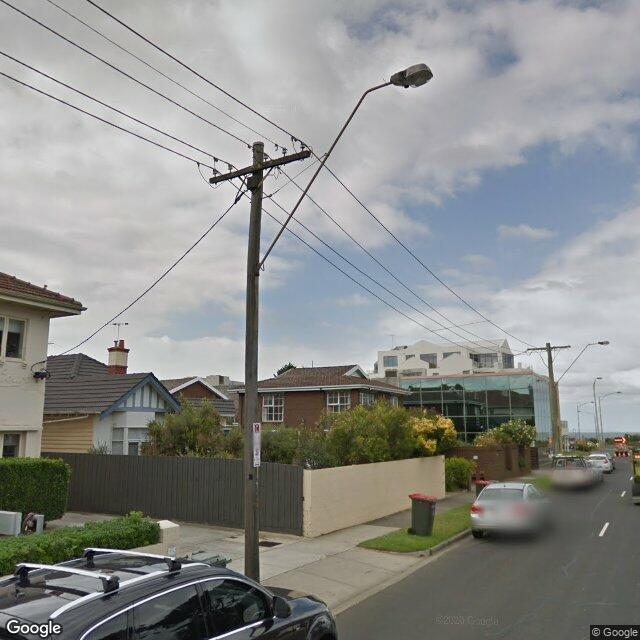crossarm: (196, 134, 314, 189), (528, 344, 572, 353)
steel-pole: (593, 384, 599, 438), (600, 399, 604, 439), (578, 404, 580, 432)
streetlight: (255, 61, 434, 275), (554, 341, 610, 386), (600, 391, 622, 401), (578, 400, 597, 410), (594, 376, 603, 384)
timber-pole: (243, 141, 266, 583), (546, 342, 562, 450)
